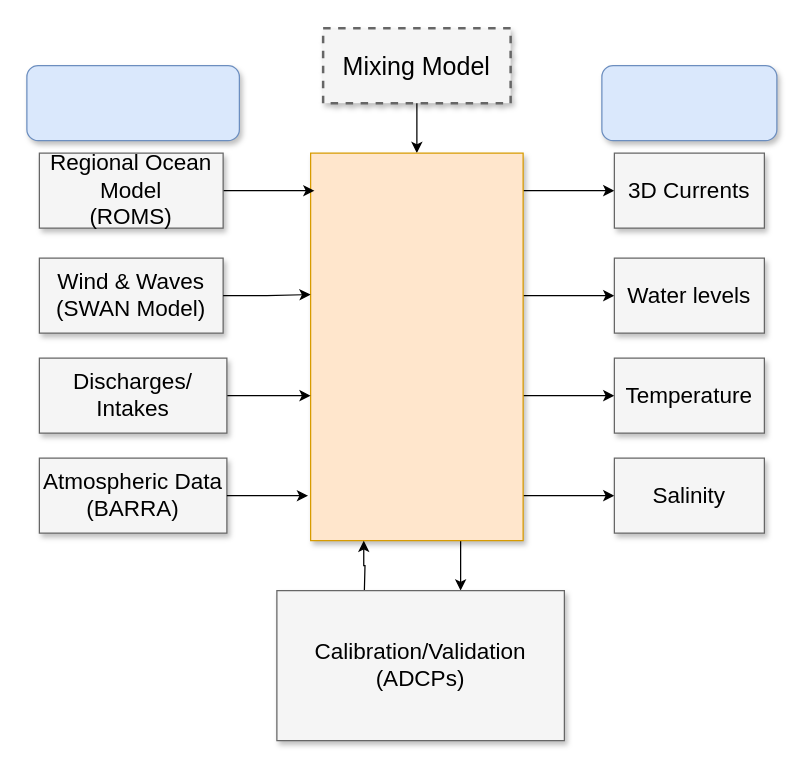
Some shapes in this 806 by 771 pixel diagram are drawn without their labels. The centre of each missing label's shape, as x and y in pixels:
"Boundary Conditions" goes at [134,104].
"Model Outputs" goes at [690,104].
"TUFLOWFV Hydrodynamic Model" goes at [417,348].
